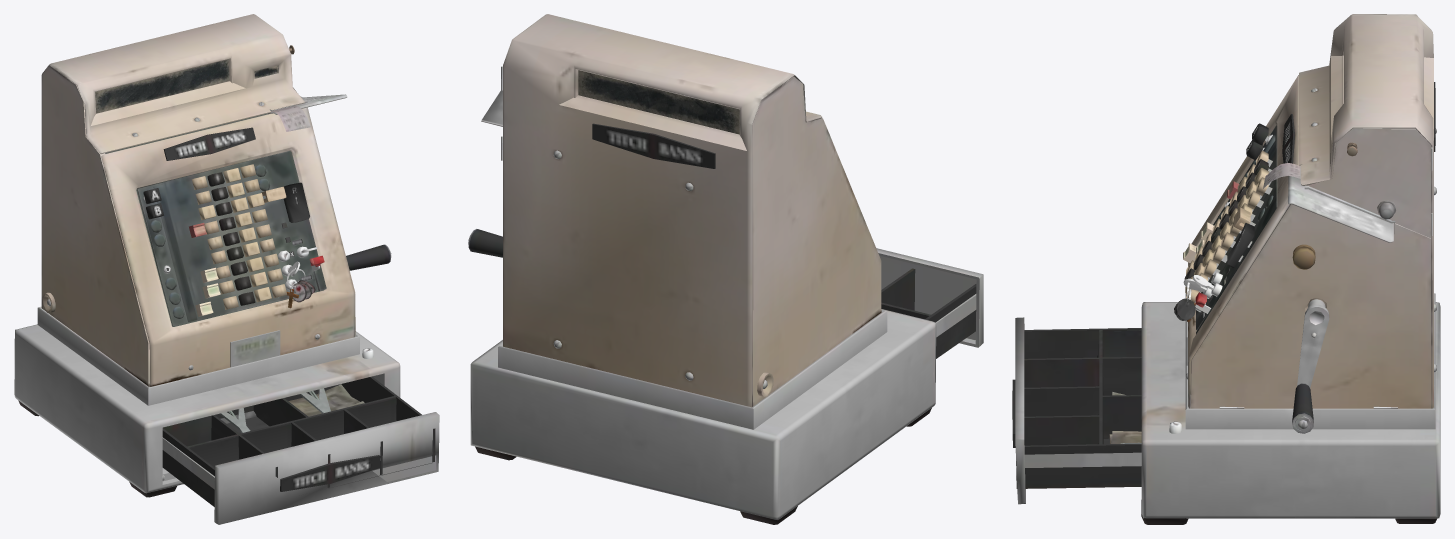
File: cash_register.glb
The picture shows the model from 3 angles, left to right: view 1: azimuth 30°, elevation 25°; view 2: azimuth 150°, elevation 25°; view 3: azimuth 270°, elevation 25°; orthographic projection. The views are drawn at different scales.
Visible parts, largest first — view 1: CashRegister_01_body; view 2: CashRegister_01_body; view 3: CashRegister_01_body.
Boxes of the visible parts, x1=… form: CashRegister_01_body: x1=14, y1=14, x2=439, y2=524; CashRegister_01_body: x1=468, y1=14, x2=983, y2=524; CashRegister_01_body: x1=1012, y1=14, x2=1440, y2=524.
Bounding box in the file's own units: 0.6005 × 0.6212 × 0.6242.
Materials: 2 (2 with a texture image).
